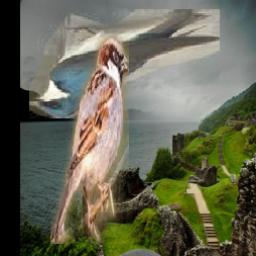Sparrow: (50, 37, 129, 245)
Swallow: (30, 9, 221, 118)
